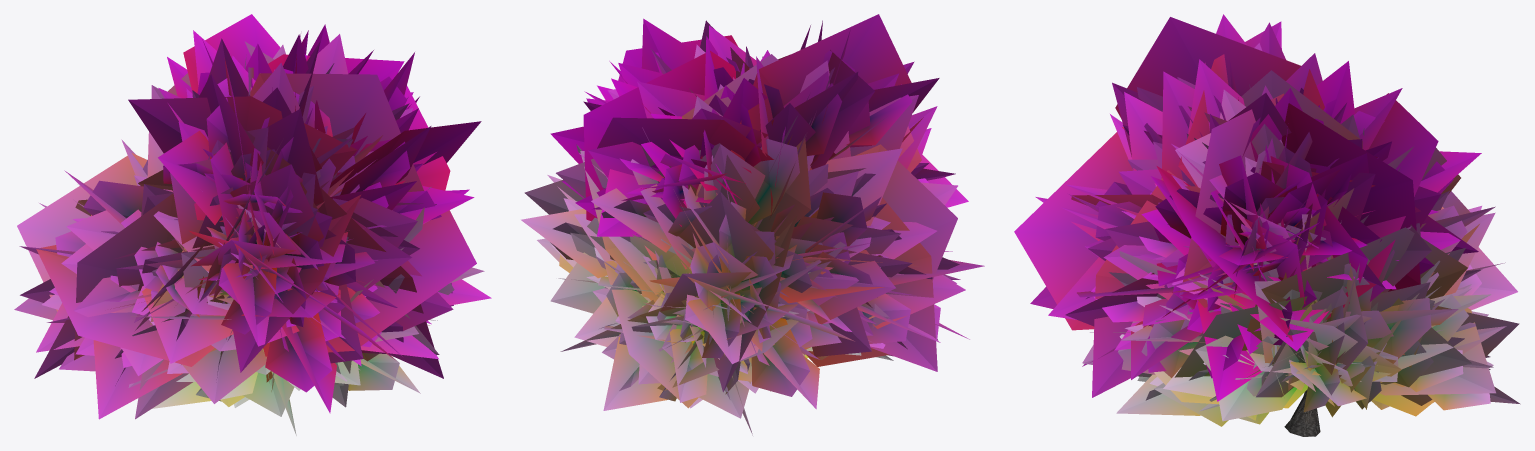
Rendered from filber_tree_11.FBX.
The picture shows the model from 3 angles, left to right: view 1: azimuth 30°, elevation 25°; view 2: azimuth 150°, elevation 25°; view 3: azimuth 270°, elevation 25°; orthographic projection. The views are drawn at different scales.
Visible parts, largest first — view 1: filbert_leaves_lod_0, filbert_leaves_shadow; view 2: filbert_leaves_lod_0, filbert_leaves_shadow; view 3: filbert_leaves_lod_0, filbert_leaves_shadow, filbert_trunk.
Part boxes in pixels (x1=…): filbert_leaves_lod_0: x1=14, y1=24, x2=491, y2=419; filbert_leaves_shadow: x1=17, y1=14, x2=481, y2=435; filbert_leaves_lod_0: x1=521, y1=18, x2=969, y2=418; filbert_leaves_shadow: x1=524, y1=14, x2=984, y2=435; filbert_leaves_lod_0: x1=1030, y1=14, x2=1520, y2=426; filbert_leaves_shadow: x1=1014, y1=17, x2=1519, y2=421; filbert_trunk: x1=1284, y1=389, x2=1320, y2=436.
Size of what is drawn, in the model's own units: 10.86 by 8.89 by 11.19.
